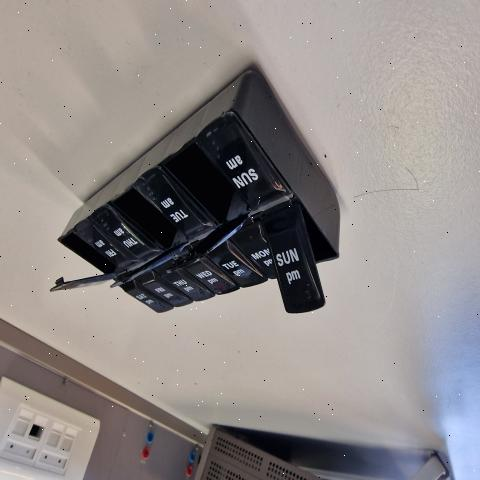Open: (160, 140, 248, 268), (106, 185, 187, 285), (51, 233, 118, 290), (300, 202, 337, 303)
